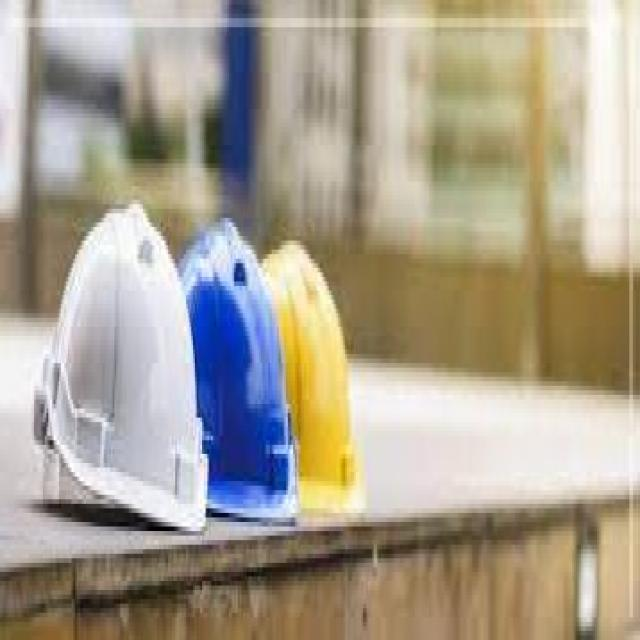Safety-Helmet: (23, 182, 211, 558), (168, 204, 299, 530), (256, 236, 364, 523)
